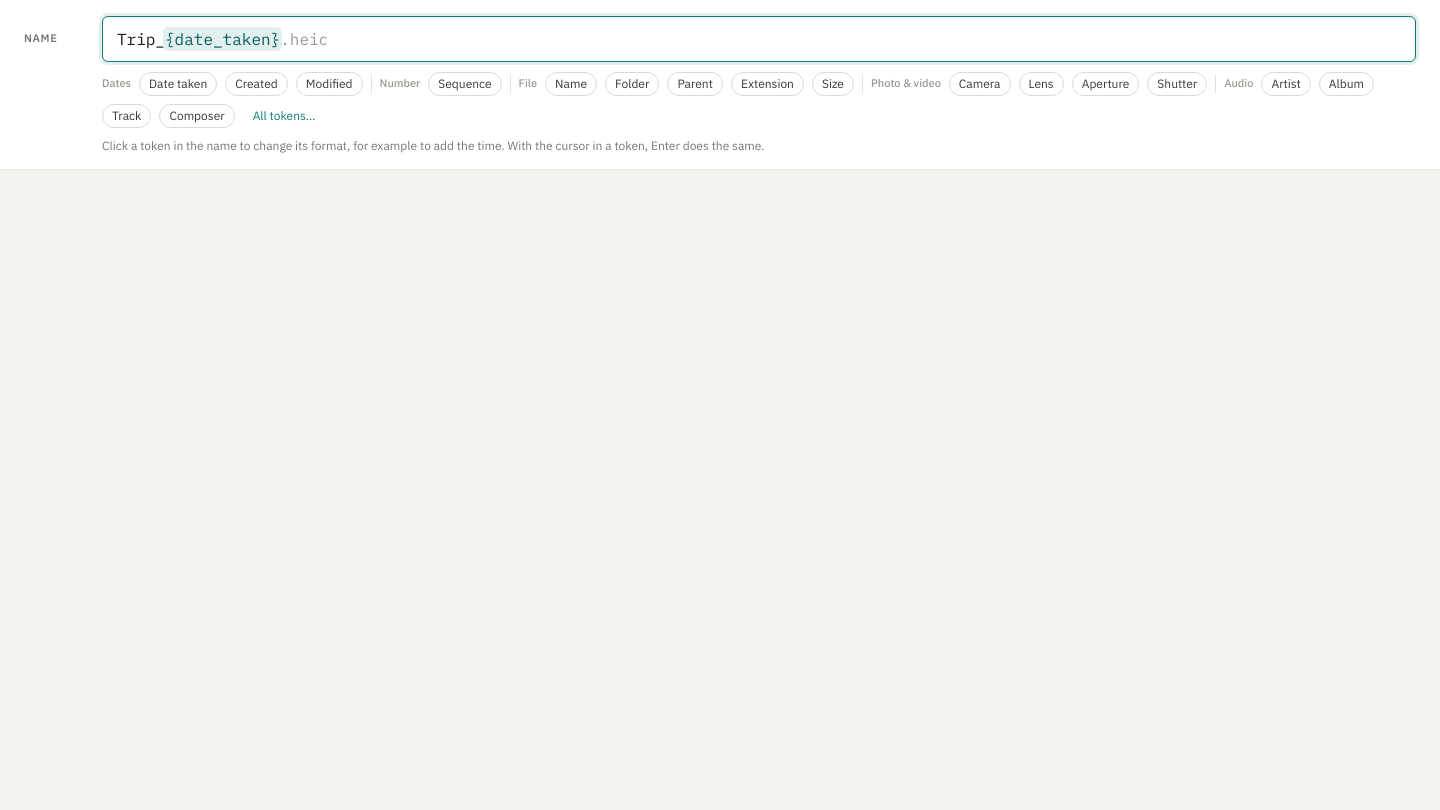
Test: token popover › opens for the token under the click and rewrites its format
Click the field named "Name pattern" at (759, 39), box [103,17,1415,61]
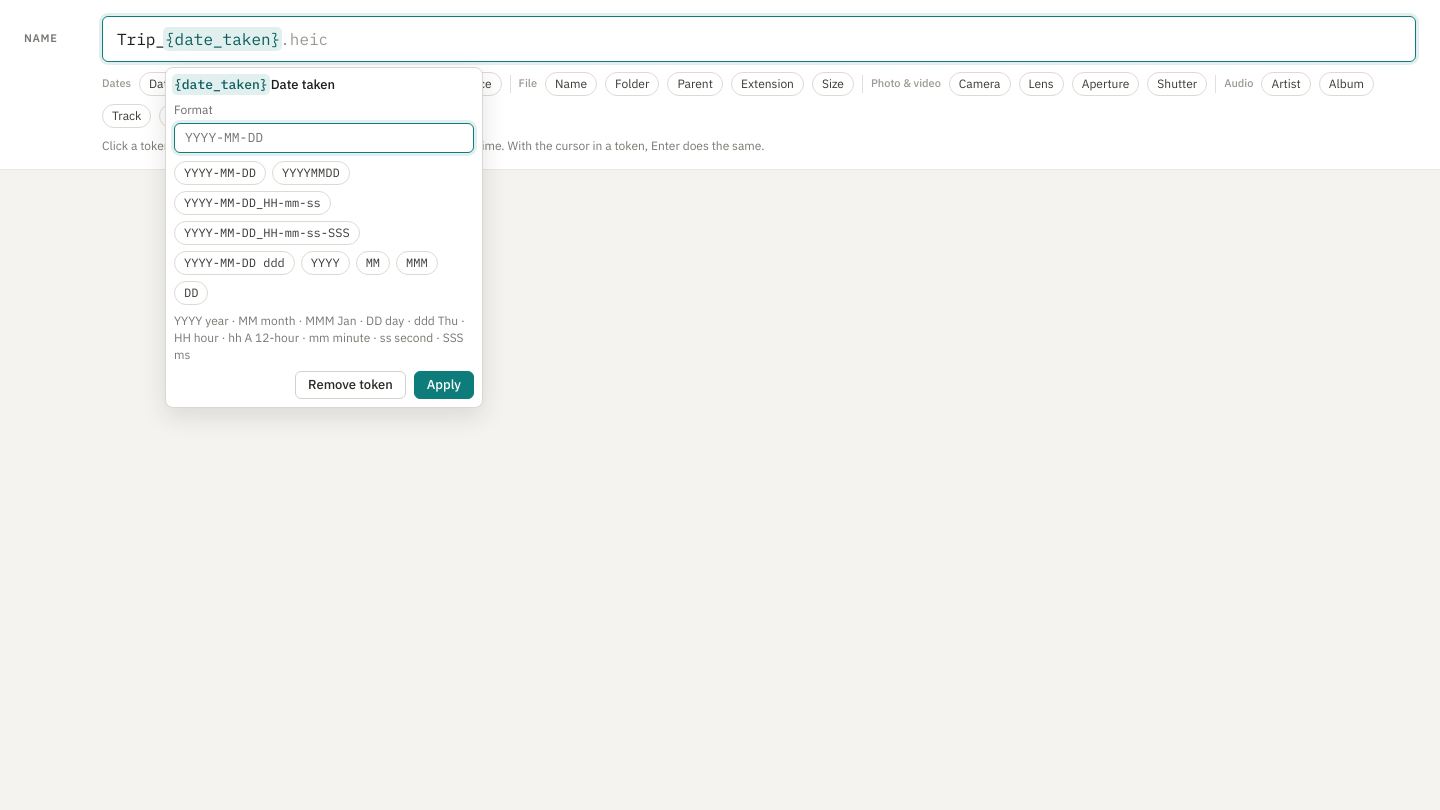
Click the button "YYYYMMDD" at (311, 173), box [272,161,350,185]
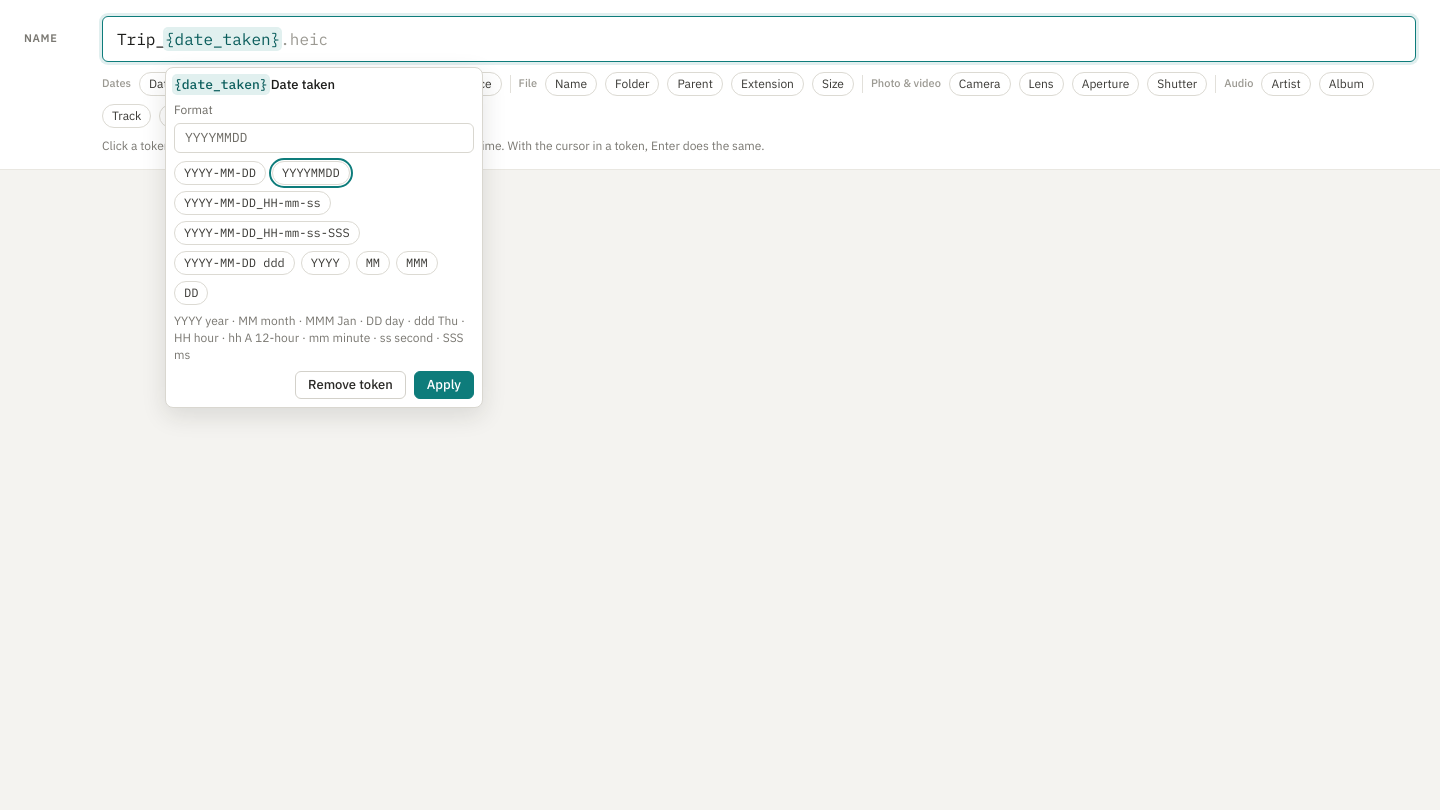
Expected: the field labelled "Format" holds "YYYYMMDD", [174,123,474,153]
Click the button "Apply" at (444, 385), box [414,371,474,399]
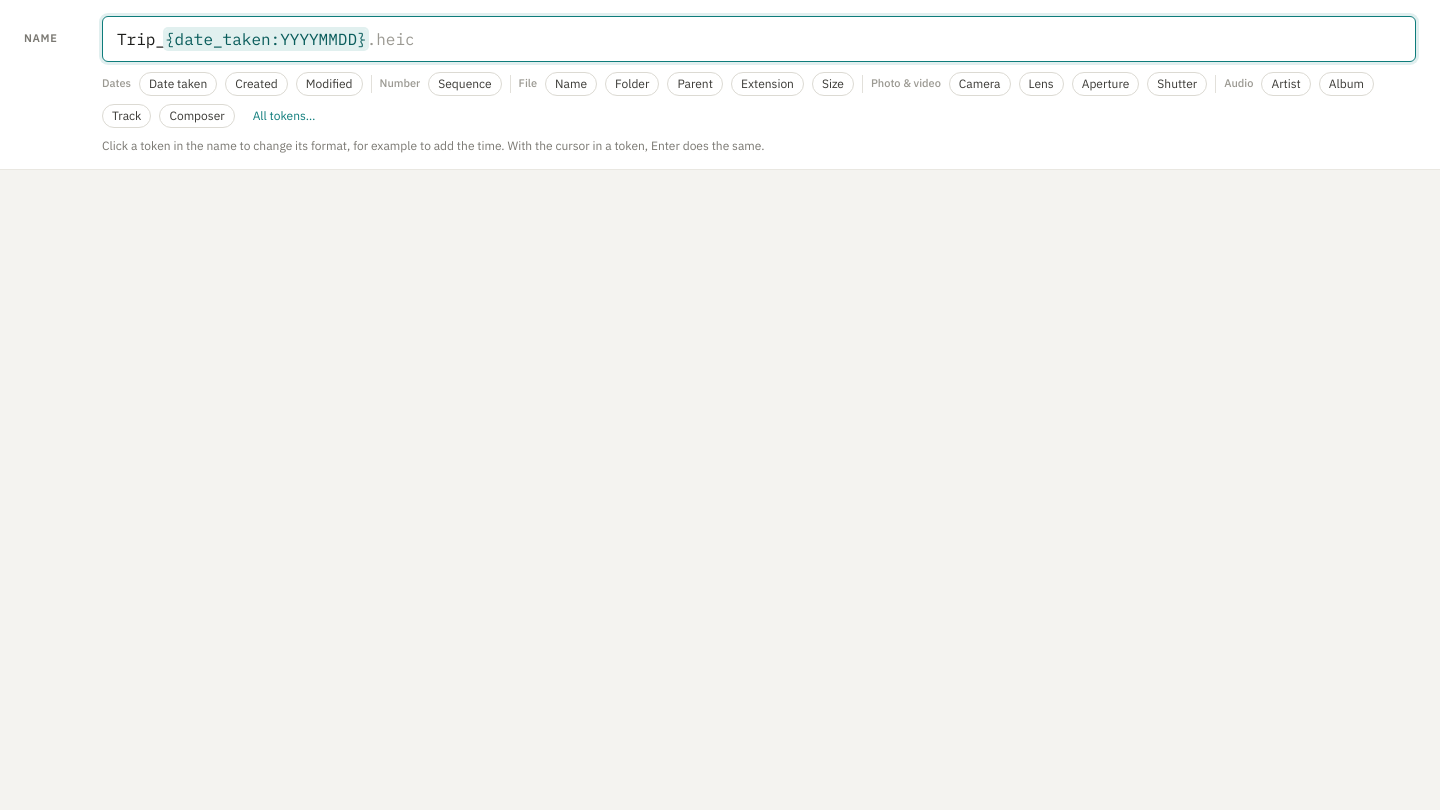
Expected: the field named "Name pattern" holds "Trip_{date_taken:YYYYMMDD}", [103,17,1415,61]
Expected: the dialog is gone
